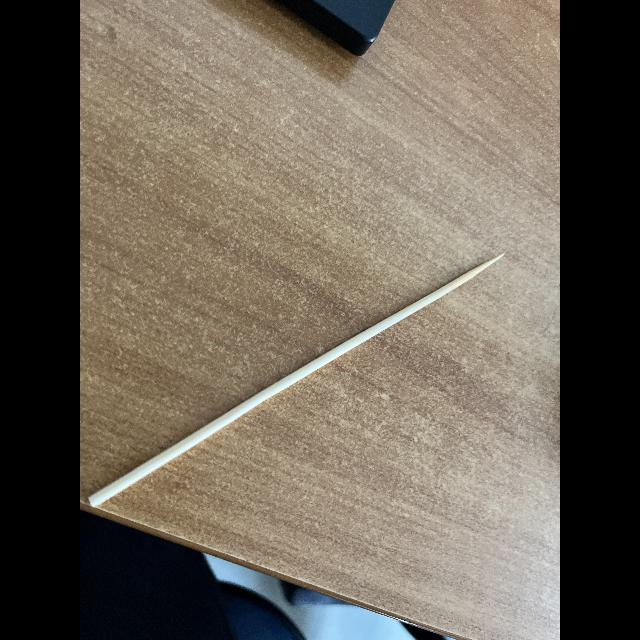stick: (80, 237, 516, 555)
